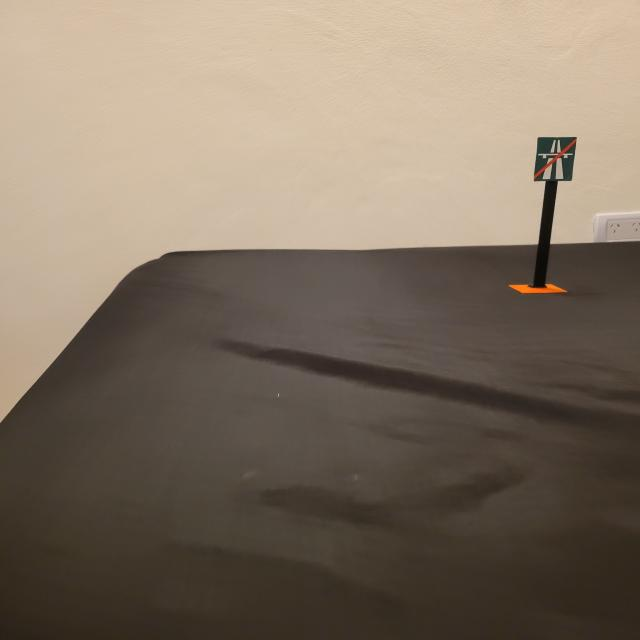highway_exit: (533, 136, 577, 181)
